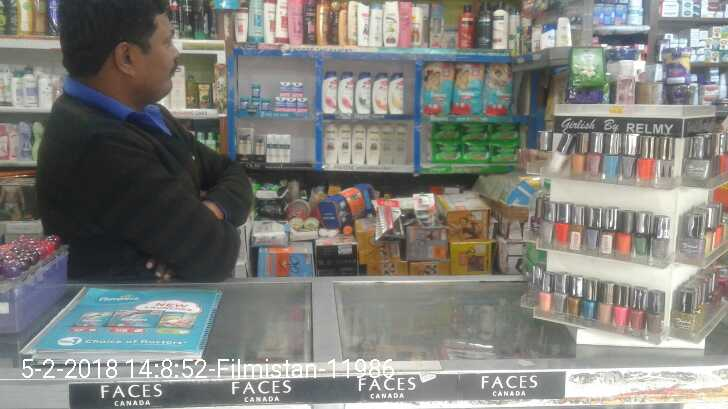vicks: (240, 77, 308, 114)
